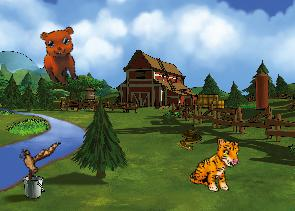bear: (32, 21, 92, 90)
eagle: (11, 130, 61, 186)
tiger: (188, 134, 242, 195)
